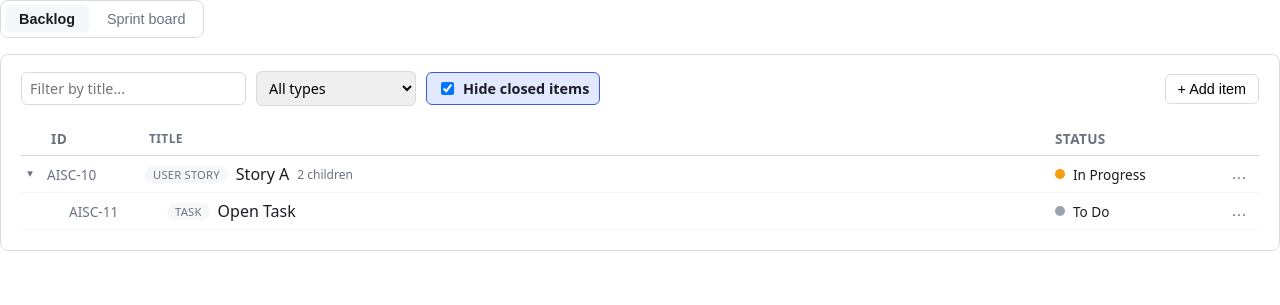
Test: BacklogPage - Hide closed items toggle defaults to on (bug fix) › turning the toggle off re-fetches without the filter and shows Done/Closed items, including nested children
This screenshot has width=1280, height=305.
Expected: the button "User Story Story A 2 children" is shown, top-left (145, 163), bottom-right (353, 185)
Click the checkbox labelled "Hide closed items": [448, 88] box top-left (441, 82), bottom-right (454, 95)
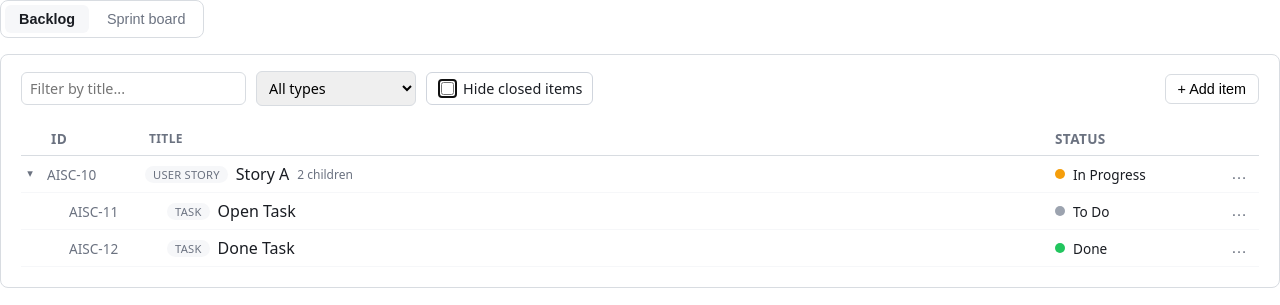
Expected: the button "Task Open Task" is shown, top-left (167, 200), bottom-right (296, 222)
Expected: the checkbox labelled "Hide closed items" is not checked, top-left (441, 82), bottom-right (454, 95)
Expected: the button "Task Done Task" is shown, top-left (167, 237), bottom-right (295, 259)
